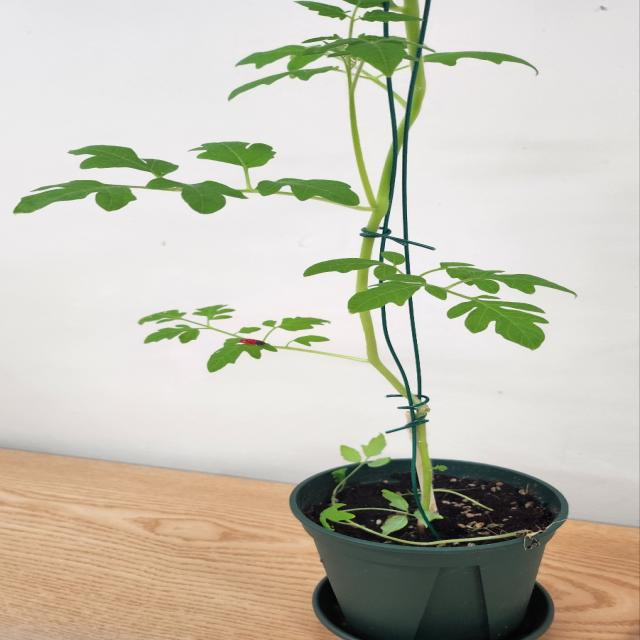bug: (206, 332, 289, 354)
